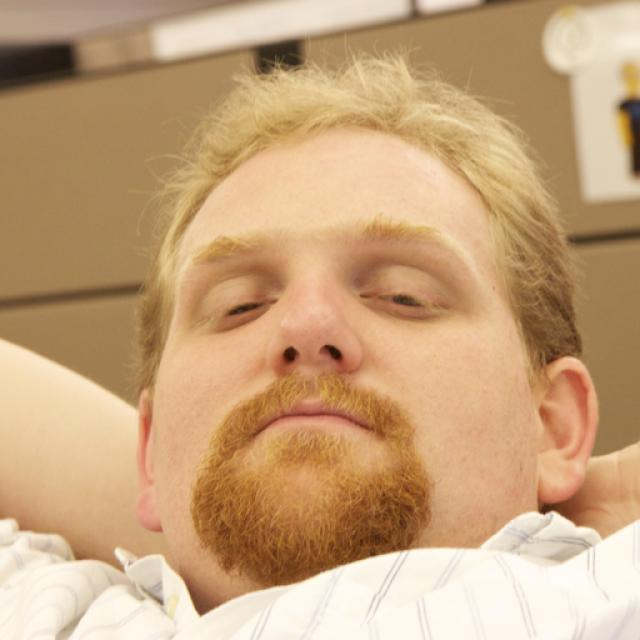neutral: (154, 121, 534, 548)
